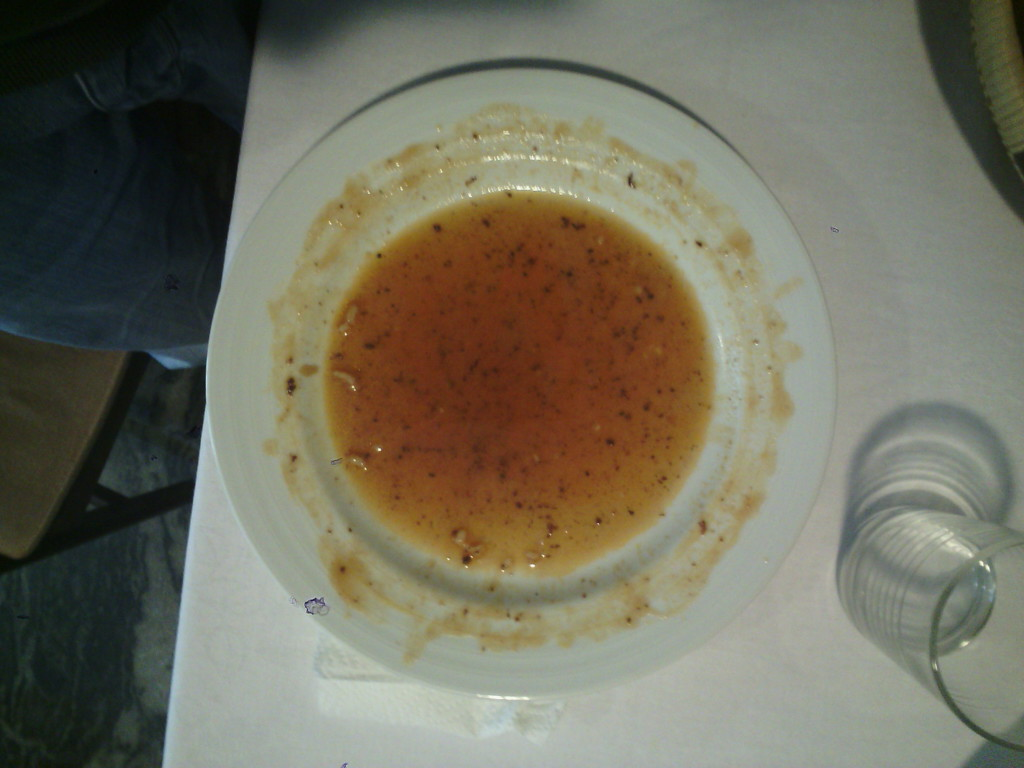0-20: (210, 68, 841, 704)
